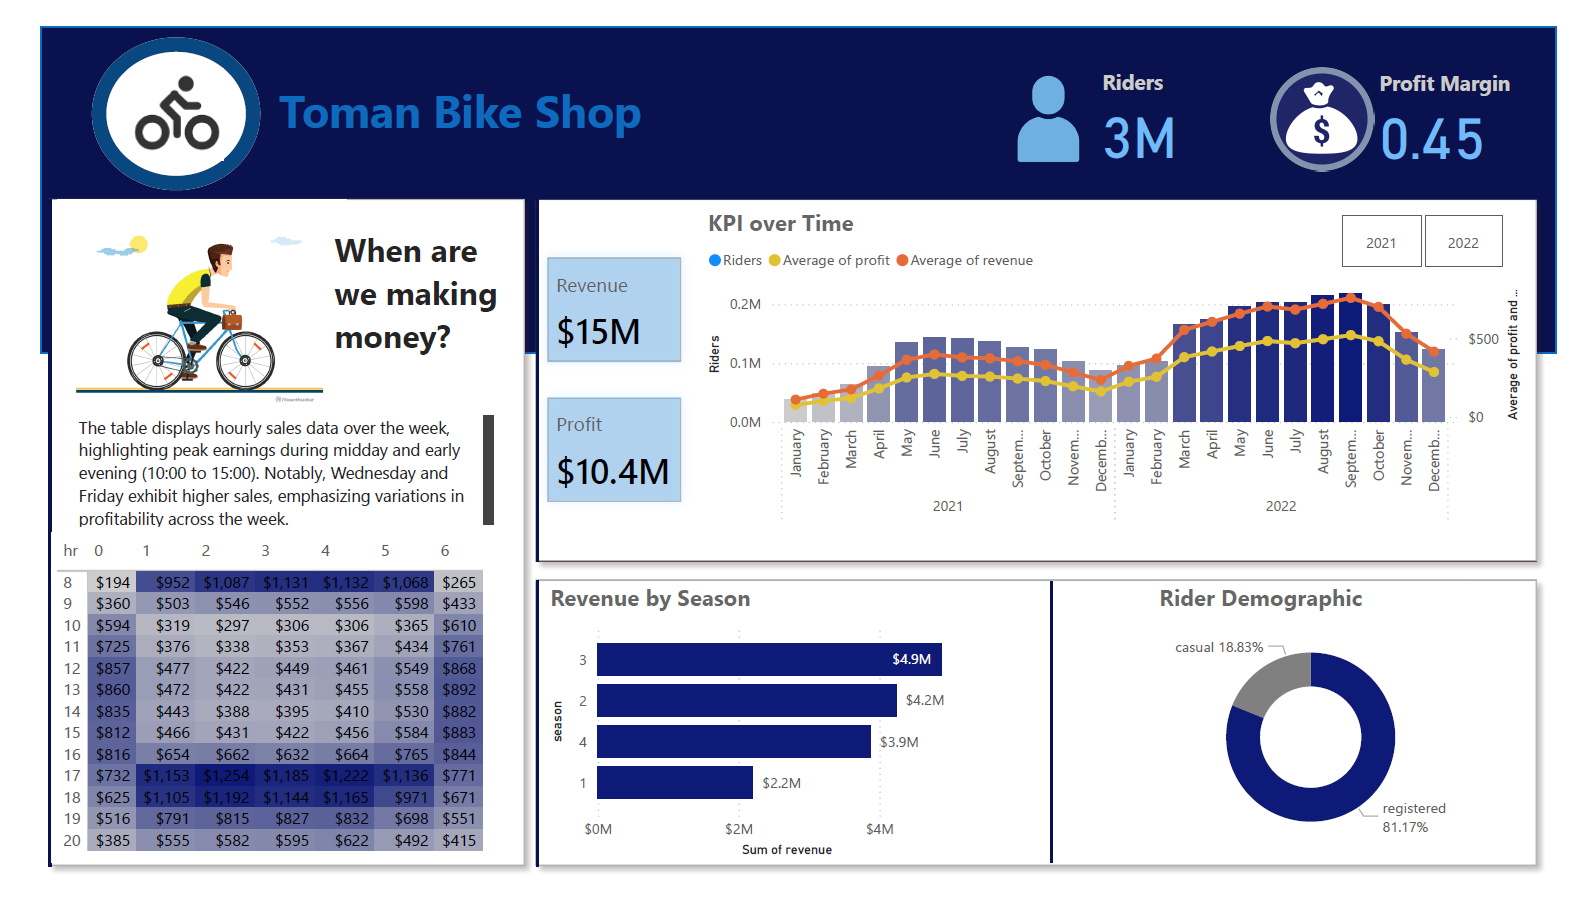

This screenshot's page, from the dashboard's own definition file:
{"tool":"powerbi","page":{"name":"Page 1","canvas":[1280,720],"ordinal":0},"visuals":[{"type":"shape","box":[9.6,0,1270.7,274.4],"z":0},{"type":"cardVisual","fields":{"Data":["Query1.riders"]},"box":[0,127.6,432.2,592.8],"z":1000},{"type":"cardVisual","fields":{"Data":["Query1.riders"]},"box":[408,128.1,872,337.1],"z":2000},{"type":"cardVisual","fields":{"Data":["Query1.riders"]},"box":[408,446.6,872,273.7],"z":3000},{"type":"cardVisual","fields":{"Data":["Query1.riders"]},"box":[19.2,140,252.5,204.5],"z":4000},{"type":"pivotTable","fields":{"Values":["Query1.revenue"],"Columns":["Query1.weekday"],"Rows":["Query1.hr"]},"box":[19.2,424,388.3,275.8],"z":5000},{"type":"textbox","box":[251.1,163.3,156.4,157.8],"z":6000},{"type":"textbox","box":[37,321.1,356.8,102.9],"z":7000},{"type":"lineClusteredColumnComboChart","title":"KPI over Time","fields":{"Category":["Query1.dteday.Variation.Date Hierarchy.Year","Query1.dteday.Variation.Date Hierarchy.Month","Query1.dteday.Variation.Date Hierarchy.Day"],"Y":["Query1.riders"],"Y2":["Query1.profit","Query1.revenue"]},"box":[563.5,150.5,691.6,273.7],"z":8000},{"type":"clusteredBarChart","title":"Revenue by Season","fields":{"Category":["Query1.season"],"Y":["Query1.revenue"]},"box":[431.7,465.2,379.4,235.1],"z":9000},{"type":"donutChart","title":"Rider Demographic","fields":{"Category":["Query1.rider_type"],"Y":["Query1.riders"]},"box":[941.7,465.2,263.7,235.1],"z":10000},{"type":"shape","box":[823.5,465.2,65.9,235.1],"z":11000},{"type":"cardVisual","title":"KPI over Time","fields":{"Data":["Query1.revenue","Query1.profit"]},"box":[419.2,177.9,144.3,237.6],"z":12000},{"type":"cardVisual","fields":{"Data":["Query1.riders","Query1.Profit Margin"]},"box":[777.5,17.4,502.6,109.5],"z":13000},{"type":"shape","box":[53.5,8.7,140.6,128.1],"z":14000},{"type":"image","box":[80.9,29.9,87.1,87.1],"z":15000},{"type":"textbox","box":[205.3,39.8,378.2,65.9],"z":16000},{"type":"slicer","fields":{"Values":["Query1.Years"]},"box":[1073.5,150.5,185.3,57.2],"z":17000}]}

Visuals, with their boxes in screenshot pixels (x1, y1, x2, y2), scaled from the page's 1280x720 canvas onto the 1585x912 screenshot:
shape: 12 0 1584 348
cardVisual - Query1.riders: 0 162 535 911
cardVisual - Query1.riders: 505 162 1584 589
cardVisual - Query1.riders: 505 566 1584 911
cardVisual - Query1.riders: 24 177 336 436
pivotTable - Query1.revenue x Query1.weekday: 24 537 505 886
textbox: 311 207 505 407
textbox: 46 407 488 537
"KPI over Time" lineClusteredColumnComboChart: 698 191 1554 537
"Revenue by Season" clusteredBarChart: 535 589 1004 887
"Rider Demographic" donutChart: 1166 589 1493 887
shape: 1020 589 1101 887
"KPI over Time" cardVisual: 519 225 698 526
cardVisual - Query1.riders x Query1.Profit Margin: 963 22 1584 161
shape: 66 11 240 173
image: 100 38 208 148
textbox: 254 50 723 134
slicer - Query1.Years: 1329 191 1559 263
